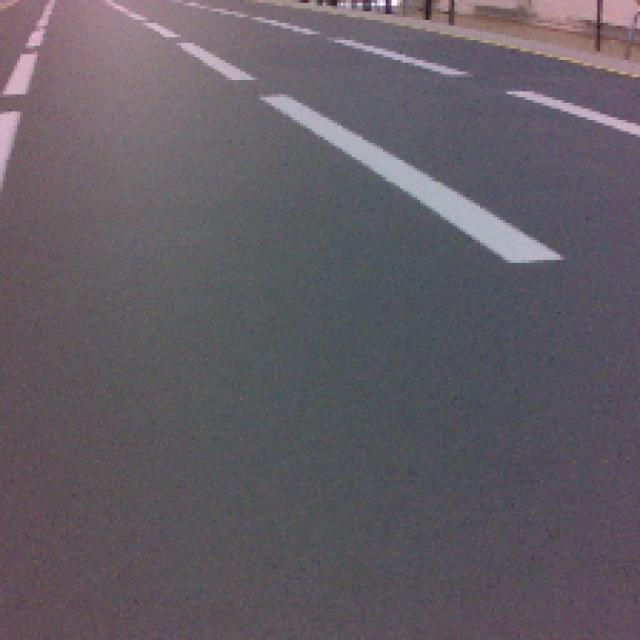Road: (0, 223, 627, 640)
